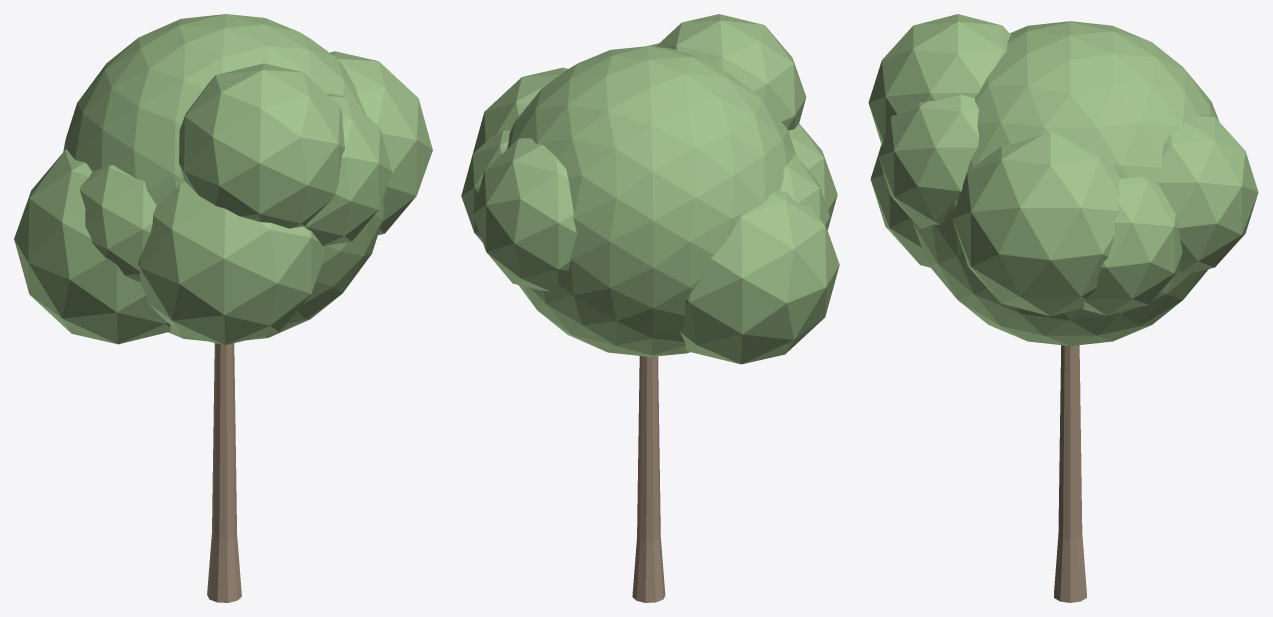
The model's file is tree.glb.
3 renders of one model, left to right at view 1: azimuth 30°, elevation 25°; view 2: azimuth 150°, elevation 25°; view 3: azimuth 270°, elevation 25°, orthographic. The views are drawn at different scales.
Visible parts, largest first — view 1: tree_leaf, tree_bark; view 2: tree_leaf, tree_bark; view 3: tree_leaf, tree_bark.
Part boxes in pixels (left/top/right/bottom): tree_leaf: left=14, top=14, right=432, bottom=345; tree_bark: left=207, top=343, right=241, bottom=602; tree_leaf: left=461, top=14, right=839, bottom=364; tree_bark: left=632, top=356, right=665, bottom=602; tree_leaf: left=868, top=14, right=1258, bottom=345; tree_bark: left=1054, top=345, right=1086, bottom=602.
Size of the model in its own units: 4.47 by 6.47 by 4.05.
